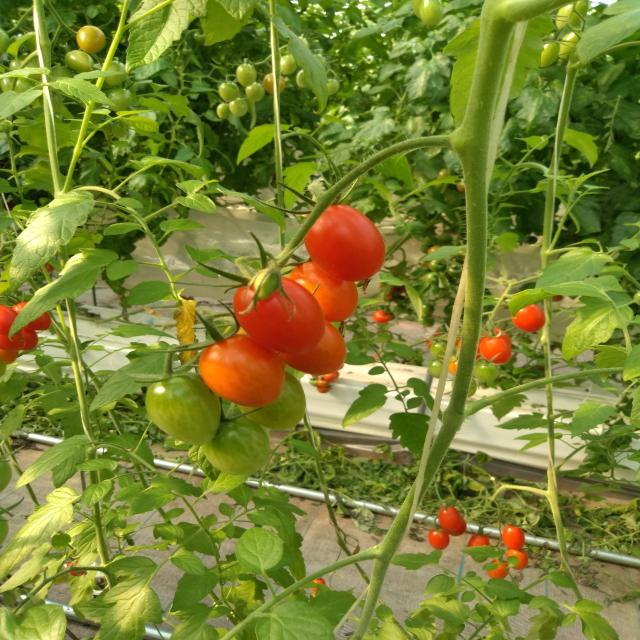c-half-riped: (198, 334, 284, 407), (288, 261, 358, 323), (274, 323, 347, 376), (76, 26, 106, 54), (506, 548, 528, 570), (487, 559, 509, 579)
c-riped: (232, 273, 327, 355), (304, 204, 386, 282), (11, 301, 52, 331), (510, 303, 546, 332), (479, 335, 511, 364), (0, 304, 23, 336), (502, 524, 525, 550), (438, 505, 459, 531), (428, 526, 450, 550), (0, 331, 25, 351), (446, 513, 466, 537), (21, 325, 38, 351), (466, 534, 491, 547)
c-unriped: (146, 371, 222, 446), (236, 370, 306, 430), (201, 416, 270, 476), (65, 50, 95, 73), (108, 88, 133, 112), (475, 361, 498, 382), (237, 63, 256, 87), (218, 82, 239, 103), (246, 81, 264, 102), (229, 98, 248, 116)
